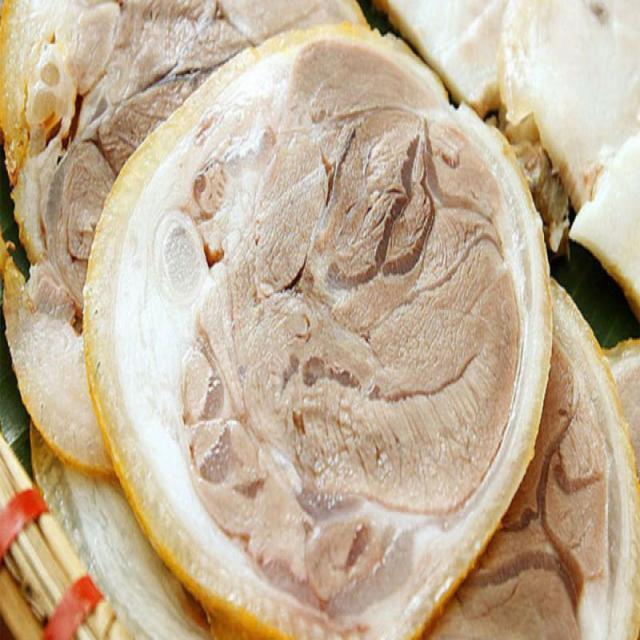thit luoc: (83, 26, 639, 639)
